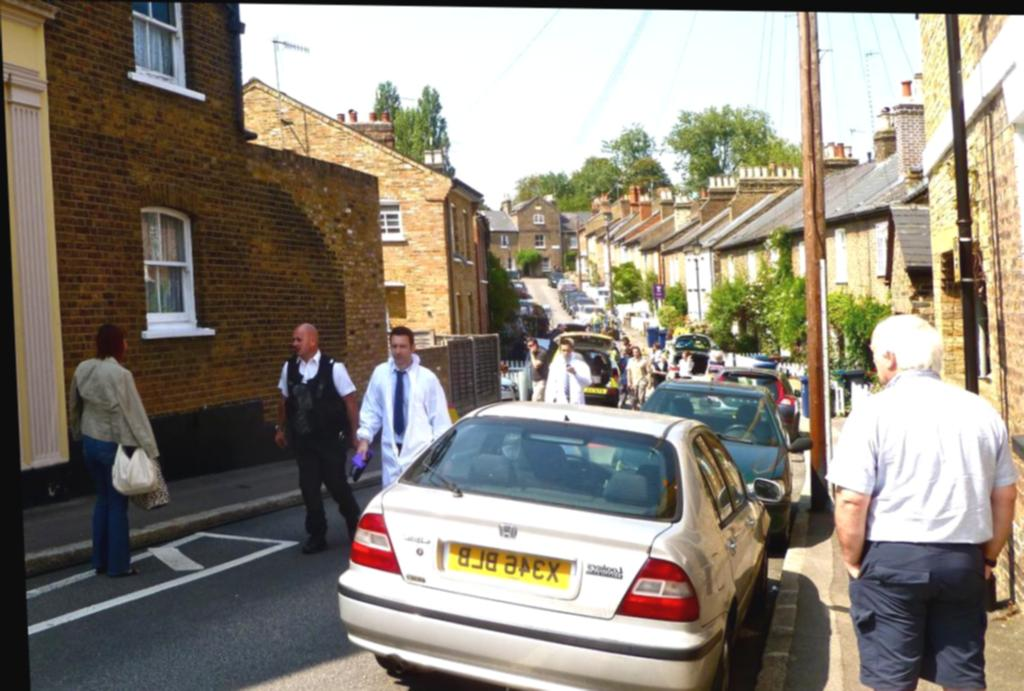License_Plate: (447, 541, 573, 591), (581, 383, 606, 394)
